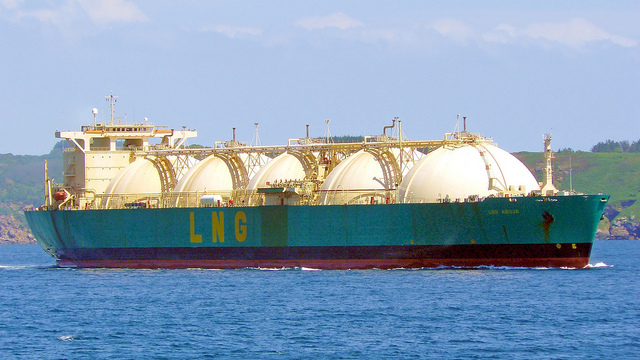LNG_ship: (24, 93, 615, 269)
